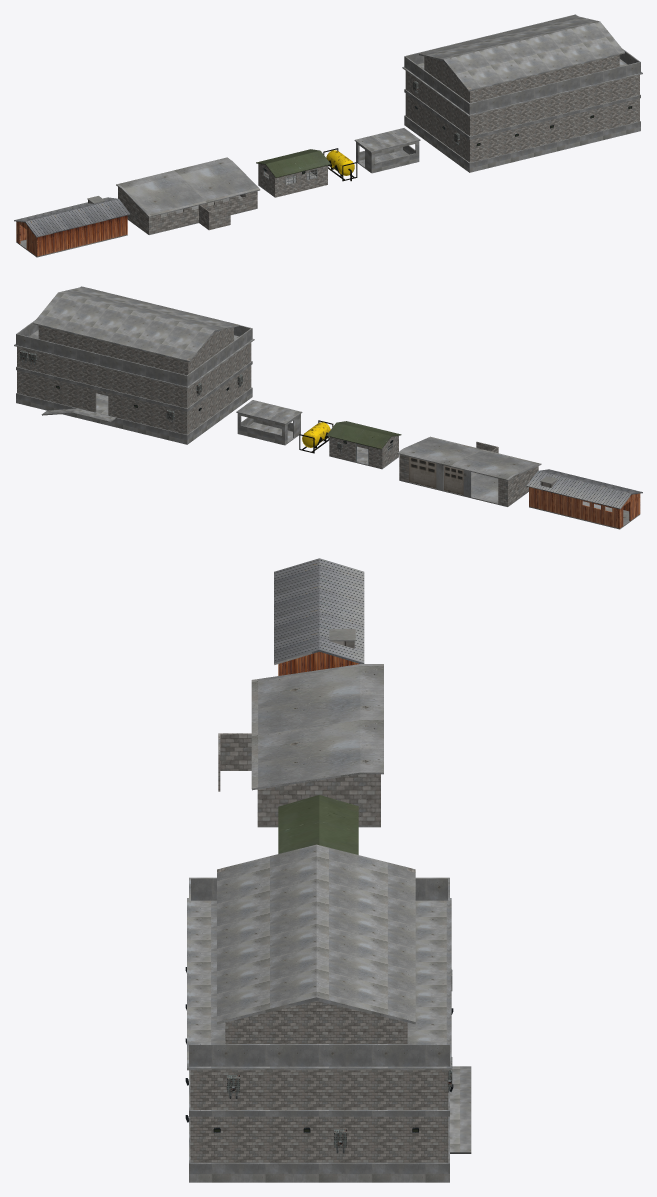
File: military_environment_buildings._modular.glb
3 views of the same model, one above another, from view 1: azimuth 30°, elevation 25°; view 2: azimuth 150°, elevation 25°; view 3: azimuth 270°, elevation 25° (orthographic). The views are drawn at different scales.
Parts seen in each view (by area): view 1: BUILDING 2_1, garage_2, Cube_4, building 1_0, checkpost_3, Cube.001_5; view 2: BUILDING 2_1, garage_2, Cube_4, building 1_0, checkpost_3, Cube.001_5; view 3: BUILDING 2_1, garage_2, Cube_4, building 1_0.
Part boxes in pixels (x1,y1,x2,y2): BUILDING 2_1: (402, 14, 642, 172); garage_2: (116, 157, 260, 234); Cube_4: (14, 196, 130, 257); building 1_0: (256, 149, 330, 197); checkpost_3: (354, 128, 420, 173); Cube.001_5: (323, 148, 357, 181); BUILDING 2_1: (14, 286, 254, 444); garage_2: (397, 436, 541, 506); Cube_4: (526, 469, 642, 529); building 1_0: (326, 421, 401, 469); checkpost_3: (236, 400, 302, 445); Cube.001_5: (299, 420, 333, 453); BUILDING 2_1: (185, 844, 471, 1182); garage_2: (218, 664, 383, 827); Cube_4: (274, 558, 364, 675); building 1_0: (278, 795, 358, 854).
Bounding box in the file's own units: 78.81 × 11.52 × 16.68.
8 materials, 8 textured.
